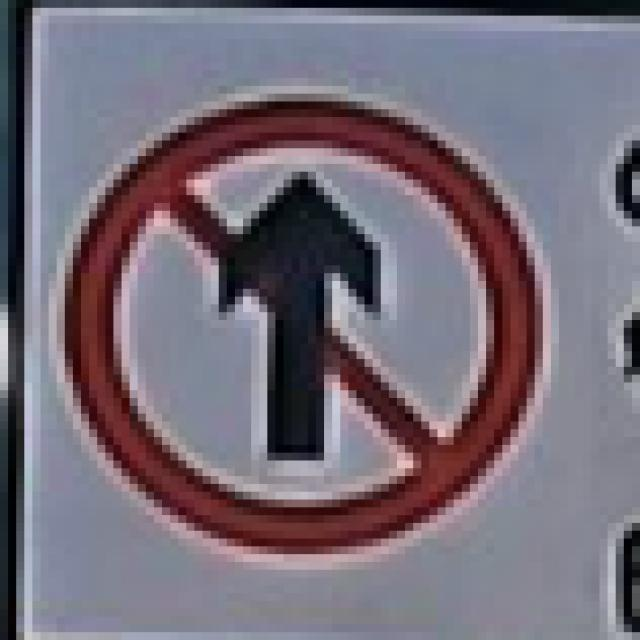Not that Direction: (62, 87, 557, 569)
